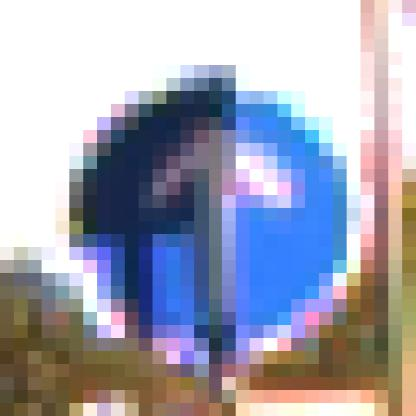AheadOnly: (70, 79, 348, 352)
